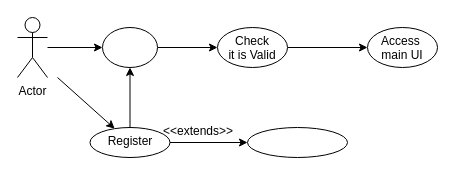
Some shapes in this 455 by 175 pixel diagram are drawn without their labels. The centre of each missing label's shape, as x and y in pixels:
"Login tries" goes at (130,47).
"newAccount()" goes at (297,142).
